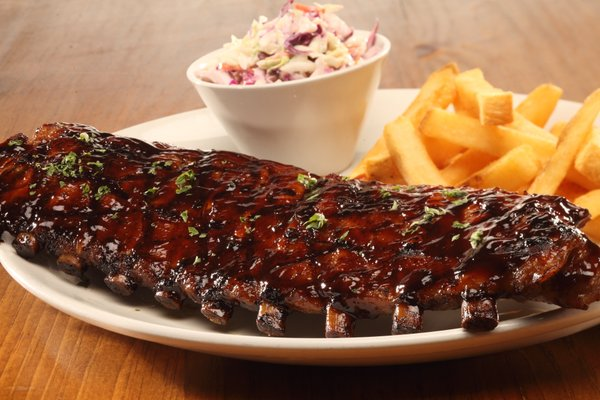sushi: (186, 2, 392, 177)
